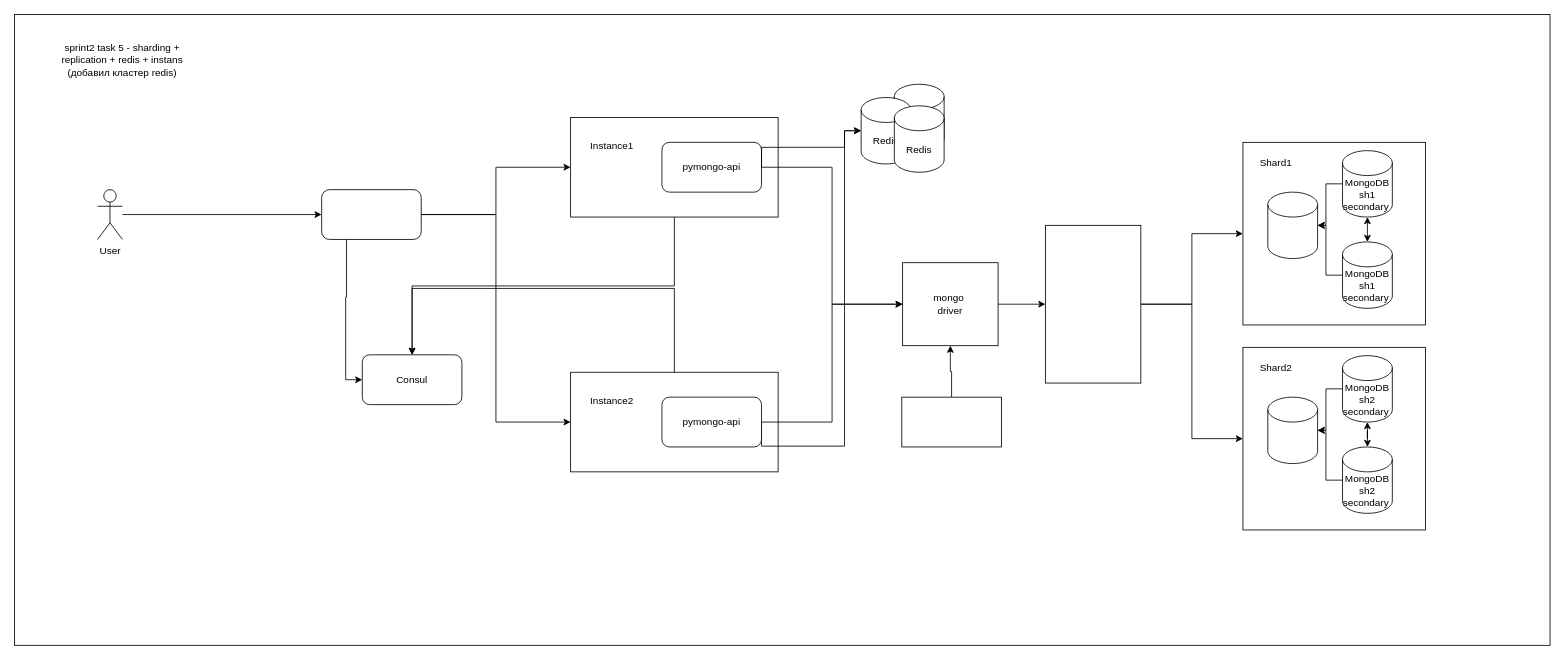
Image size: 1565x660. Some labels were removed from this diagram. Each missing label, with the centre of its shape:
APISIX Gateway: the point at 371,214
configSrv ( данные о кластере ): the point at 951,421
mongo router: the point at 1093,304
MongoDB sh1 primary: the point at 1292,225
MongoDB sh2 primary: the point at 1292,430
